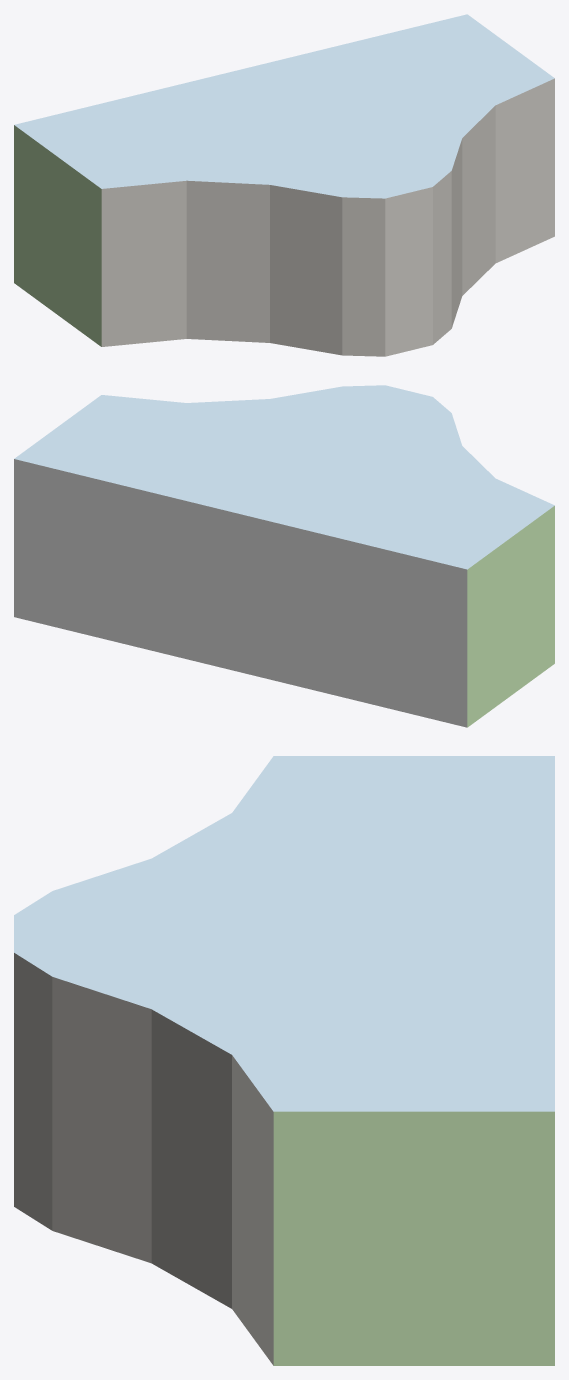
File: Wall_Straight_Deformed_Convex_3x3_Mid.fbx
3 views of the same model, one above another, from view 1: azimuth 30°, elevation 25°; view 2: azimuth 150°, elevation 25°; view 3: azimuth 270°, elevation 25° (orthographic). The views are drawn at different scales.
Parts seen in each view (by area): view 1: Wall_Straight_Deformed_Convex_3x3_Mid; view 2: Wall_Straight_Deformed_Convex_3x3_Mid; view 3: Wall_Straight_Deformed_Convex_3x3_Mid.
Boxes of the visible parts, x1,y1,x2,y2 form: Wall_Straight_Deformed_Convex_3x3_Mid: (14, 14, 554, 356); Wall_Straight_Deformed_Convex_3x3_Mid: (14, 385, 554, 727); Wall_Straight_Deformed_Convex_3x3_Mid: (14, 756, 554, 1365).
Bounding box in the file's own units: 300 × 100 × 193.
